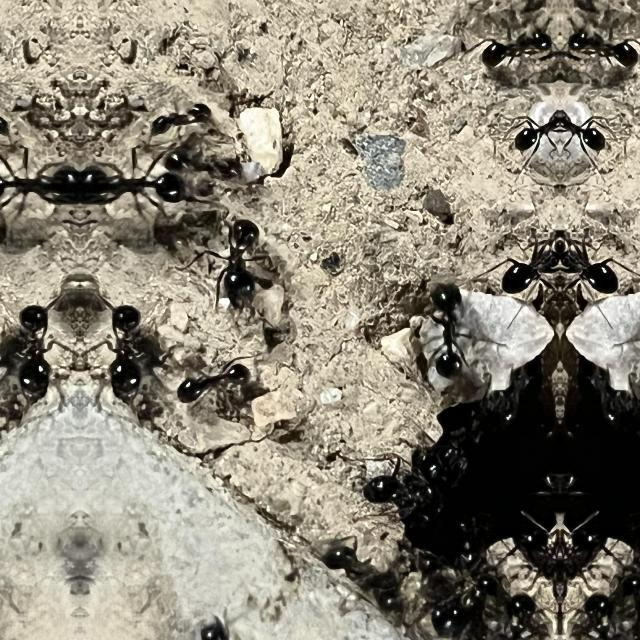Messor: (80, 290, 150, 412), (10, 290, 80, 412), (80, 148, 202, 214), (322, 544, 402, 630), (204, 216, 266, 314), (420, 280, 472, 392), (493, 223, 559, 305), (561, 223, 627, 305), (0, 148, 80, 214), (172, 348, 255, 410), (159, 131, 249, 179), (472, 26, 552, 80), (491, 106, 559, 166), (561, 106, 629, 166), (568, 26, 640, 80), (117, 88, 201, 134), (0, 88, 43, 133)
